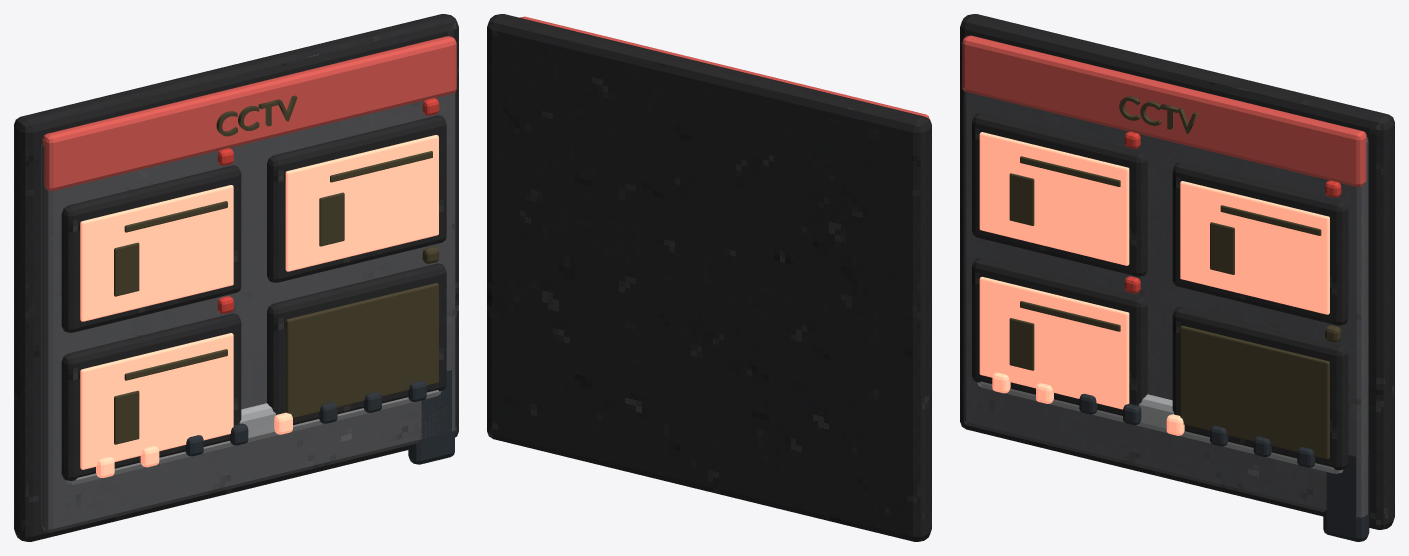
File: decor_sec_camera_bank.glb
The picture shows the model from 3 angles, left to right: view 1: azimuth 30°, elevation 25°; view 2: azimuth 150°, elevation 25°; view 3: azimuth 330°, elevation 25°; orthographic projection. The views are drawn at different scales.
Visible parts, largest first — view 1: DEC_SecCameraBank__Panel_Face, DEC_SecCameraBank__Panel_Back, DEC_SecCameraBank__Panel_Header, DEC_SecCameraBank__Feed_Glow_4, DEC_SecCameraBank__Feed_Glow_2, DEC_SecCameraBank__Feed_Glow_1, DEC_SecCameraBank__Feed_Glow_3, DEC_SecCameraBank__Feed_Bezel_1, DEC_SecCameraBank__Feed_Bezel_2, DEC_SecCameraBank__Feed_Bezel_3, DEC_SecCameraBank__Feed_Bezel_4, DEC_SecCameraBank__Switch_Rail (+8 smaller); view 2: DEC_SecCameraBank__Panel_Back, DEC_SecCameraBank__Panel_Header; view 3: DEC_SecCameraBank__Panel_Face, DEC_SecCameraBank__Panel_Back, DEC_SecCameraBank__Panel_Header, DEC_SecCameraBank__Feed_Glow_4, DEC_SecCameraBank__Feed_Glow_1, DEC_SecCameraBank__Feed_Glow_2, DEC_SecCameraBank__Feed_Glow_3, DEC_SecCameraBank__Feed_Bezel_2, DEC_SecCameraBank__Feed_Bezel_1, DEC_SecCameraBank__Feed_Bezel_4, DEC_SecCameraBank__Feed_Bezel_3, DEC_SecCameraBank__Cable_Channel (+8 smaller).
Boxes of the visible parts, x1,y1,x2,y2 form: DEC_SecCameraBank__Panel_Face: [41, 92, 455, 532]; DEC_SecCameraBank__Panel_Back: [14, 14, 458, 541]; DEC_SecCameraBank__Panel_Header: [42, 36, 456, 191]; DEC_SecCameraBank__Feed_Glow_4: [285, 283, 438, 418]; DEC_SecCameraBank__Feed_Glow_2: [285, 135, 438, 271]; DEC_SecCameraBank__Feed_Glow_1: [80, 185, 233, 321]; DEC_SecCameraBank__Feed_Glow_3: [80, 333, 233, 469]; DEC_SecCameraBank__Feed_Bezel_1: [61, 165, 241, 332]; DEC_SecCameraBank__Feed_Bezel_2: [267, 115, 446, 282]; DEC_SecCameraBank__Feed_Bezel_3: [61, 313, 241, 480]; DEC_SecCameraBank__Feed_Bezel_4: [267, 263, 446, 424]; DEC_SecCameraBank__Switch_Rail: [66, 390, 441, 484]; DEC_SecCameraBank__Panel_Back: [487, 14, 931, 541]; DEC_SecCameraBank__Panel_Header: [520, 16, 929, 118]; DEC_SecCameraBank__Panel_Face: [963, 90, 1368, 518]; DEC_SecCameraBank__Panel_Back: [960, 14, 1394, 529]; DEC_SecCameraBank__Panel_Header: [962, 35, 1366, 186]; DEC_SecCameraBank__Feed_Glow_4: [1180, 325, 1329, 459]; DEC_SecCameraBank__Feed_Glow_1: [979, 132, 1129, 265]; DEC_SecCameraBank__Feed_Glow_2: [1180, 181, 1329, 314]; DEC_SecCameraBank__Feed_Glow_3: [979, 276, 1129, 409]; DEC_SecCameraBank__Feed_Bezel_2: [1172, 162, 1348, 325]; DEC_SecCameraBank__Feed_Bezel_1: [972, 113, 1147, 276]; DEC_SecCameraBank__Feed_Bezel_4: [1172, 306, 1348, 470]; DEC_SecCameraBank__Feed_Bezel_3: [972, 257, 1147, 415]; DEC_SecCameraBank__Cable_Channel: [1323, 450, 1369, 541].
Bounding box in the file's own units: 1.24 × 1.16 × 0.17.
Materials: 8 (3 with a texture image).
